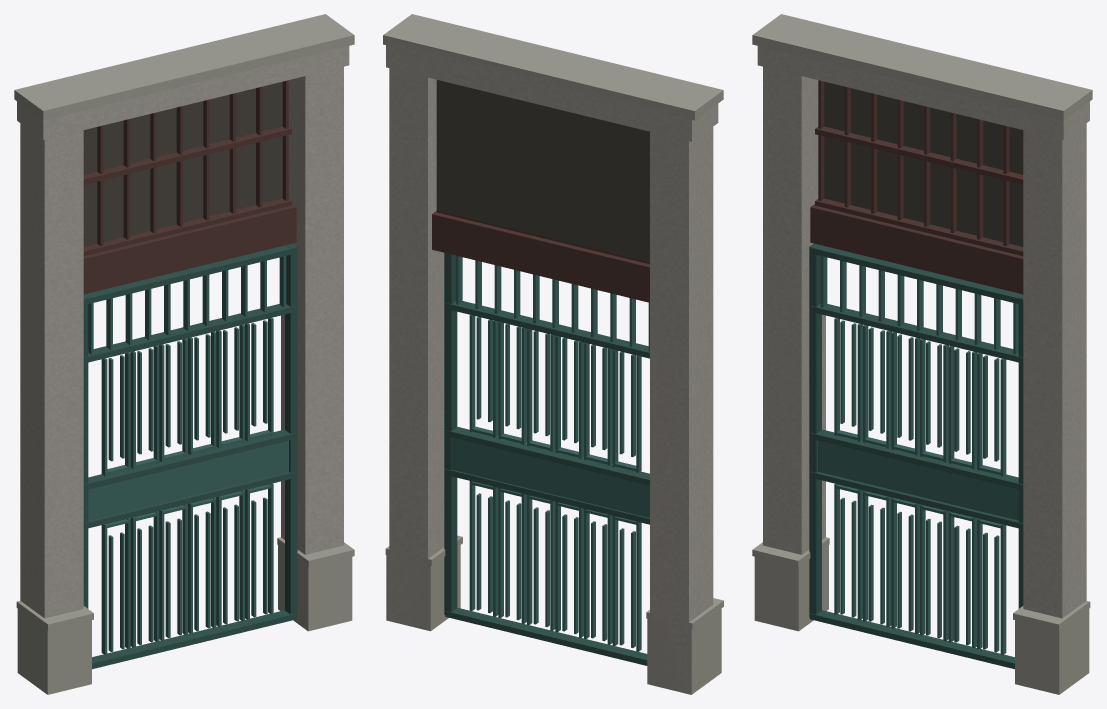
File: huangpu-shanghai-bank-beijing-205-grille-lod.glb
The picture shows the model from 3 angles, left to right: view 1: azimuth 30°, elevation 25°; view 2: azimuth 150°, elevation 25°; view 3: azimuth 330°, elevation 25°; orthographic projection.
Parts seen in each view (by area): view 1: 上海银行旧楼北京东路205号几何铁格门与上亮窗; view 2: 上海银行旧楼北京东路205号几何铁格门与上亮窗; view 3: 上海银行旧楼北京东路205号几何铁格门与上亮窗.
Boxes of the visible parts, left/top/right/bottom form: 上海银行旧楼北京东路205号几何铁格门与上亮窗: left=14, top=14, right=354, bottom=694; 上海银行旧楼北京东路205号几何铁格门与上亮窗: left=383, top=14, right=723, bottom=694; 上海银行旧楼北京东路205号几何铁格门与上亮窗: left=752, top=14, right=1092, bottom=694.
Size of the model in its own units: 2.07 by 3.71 by 0.361.
Materials: 6 (1 with a texture image).
